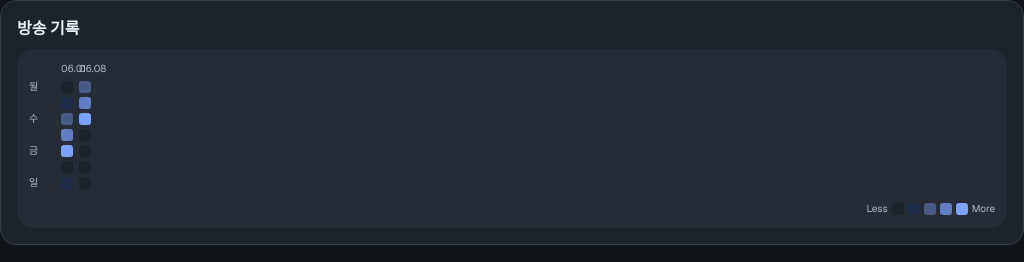
BroadcastContributionGraph › 같은 칸을 다시 누르면 팝오버가 닫힌다
The width and height of the screenshot is (1024, 262).
# 같은 칸을 두 번 클릭하면 열었다가 닫는다
What coordinates should you click on to do the following:
click the button named "06.03 방송 기록"
I would click on:
 (67, 119)
Its box is x1=61 y1=113 x2=73 y2=125.
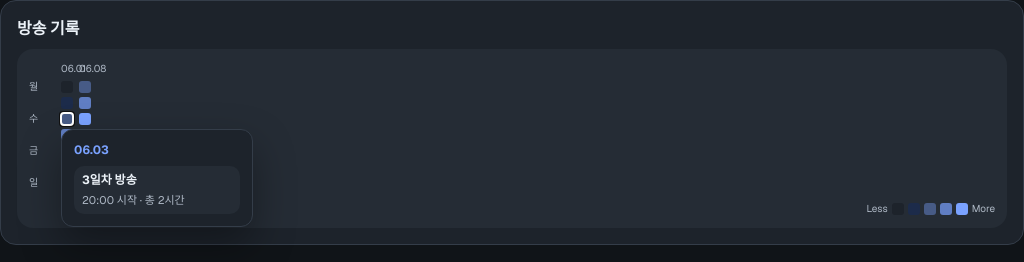
What coordinates should you click on to do the following:
click the button named "06.03 방송 기록"
I would click on:
 (67, 119)
Its box is x1=61 y1=113 x2=73 y2=125.
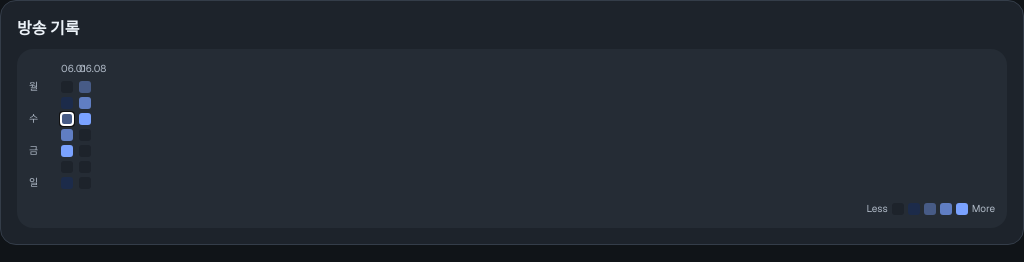
Now the text "3일차 방송" is gone
